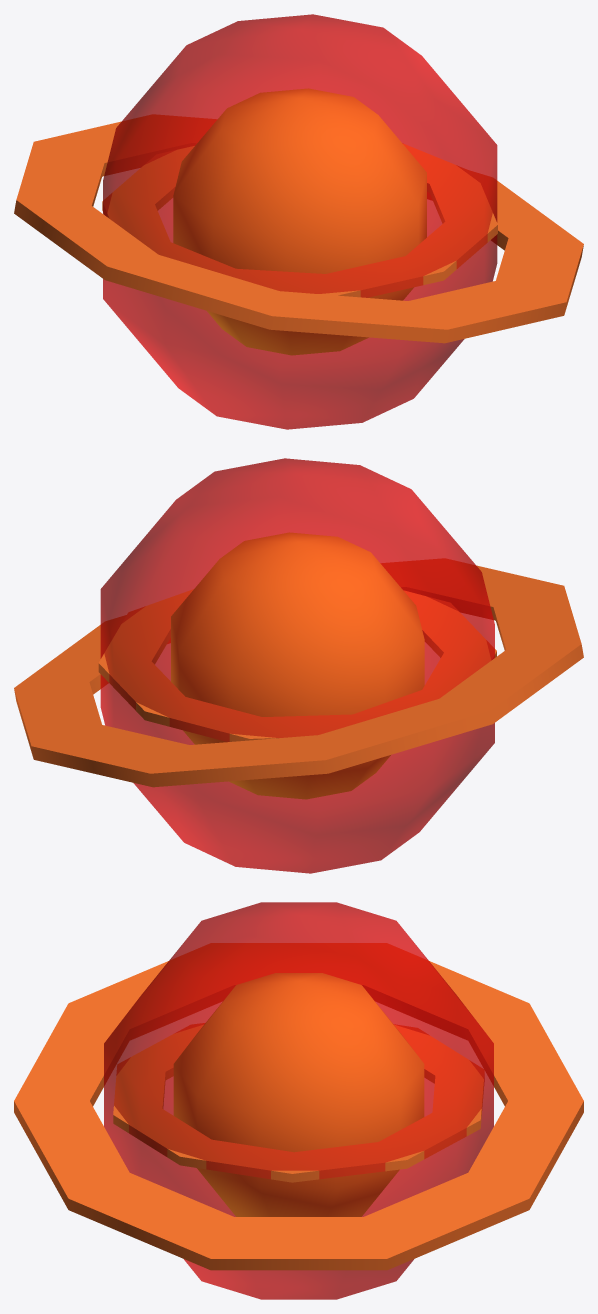
Rendered from Enemy_Attack8.obj.
3 views of the same model, one above another, from view 1: azimuth 30°, elevation 25°; view 2: azimuth 150°, elevation 25°; view 3: azimuth 270°, elevation 25° (orthographic). The views are drawn at different scales.
Visible parts, largest first — view 1: Sphere002, Sphere001, Tube001, Tube002; view 2: Sphere002, Sphere001, Tube001, Tube002; view 3: Sphere002, Tube001, Sphere001, Tube002.
Boxes of the visible parts, left/top/right/bottom form: Sphere002: left=103, top=14, right=497, bottom=429; Sphere001: left=173, top=88, right=426, bottom=355; Tube001: left=14, top=114, right=583, bottom=343; Tube002: left=102, top=143, right=497, bottom=297; Sphere002: left=100, top=458, right=494, bottom=873; Sphere001: left=171, top=532, right=424, bottom=799; Tube001: left=14, top=558, right=583, bottom=787; Tube002: left=98, top=589, right=496, bottom=741; Sphere002: left=104, top=902, right=493, bottom=1299; Tube001: left=14, top=943, right=583, bottom=1270; Sphere001: left=173, top=973, right=424, bottom=1216; Tube002: left=113, top=1023, right=484, bottom=1182.
Size of the model in its own units: 29.81 by 22.83 by 31.73.
